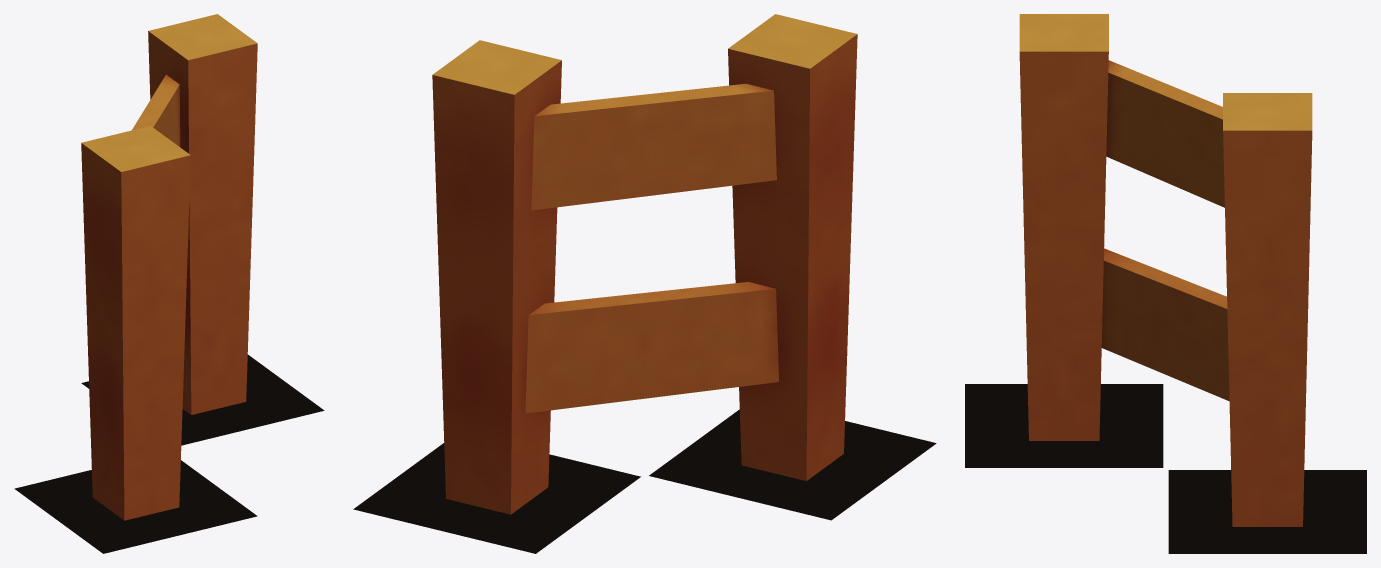
File: green_1x1_corner_fence.FBX
The picture shows the model from 3 angles, left to right: view 1: azimuth 30°, elevation 25°; view 2: azimuth 150°, elevation 25°; view 3: azimuth 270°, elevation 25°; orthographic projection. The views are drawn at different scales.
Parts seen in each view (by area): view 1: green_1x1_corner_fence, green_1x1_corner_fence_soft_shadow; view 2: green_1x1_corner_fence, green_1x1_corner_fence_soft_shadow; view 3: green_1x1_corner_fence, green_1x1_corner_fence_soft_shadow.
Boxes of the visible parts, bbox=[...] form: green_1x1_corner_fence: bbox=[81, 14, 257, 520]; green_1x1_corner_fence_soft_shadow: bbox=[14, 354, 324, 553]; green_1x1_corner_fence: bbox=[432, 14, 857, 514]; green_1x1_corner_fence_soft_shadow: bbox=[353, 409, 936, 553]; green_1x1_corner_fence: bbox=[1019, 14, 1312, 526]; green_1x1_corner_fence_soft_shadow: bbox=[965, 384, 1366, 553].
Bounding box in the file's own units: 810 × 900 × 810.
